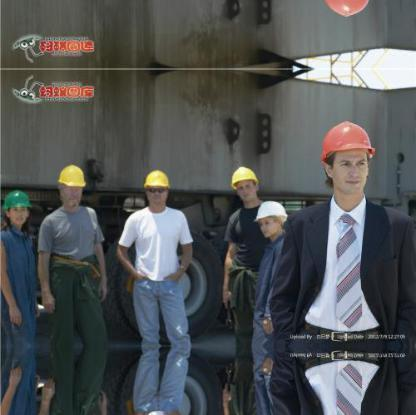helmet: (320, 117, 377, 162), (53, 165, 88, 193), (250, 198, 286, 223), (141, 166, 175, 191), (1, 192, 34, 215), (231, 169, 262, 191)
